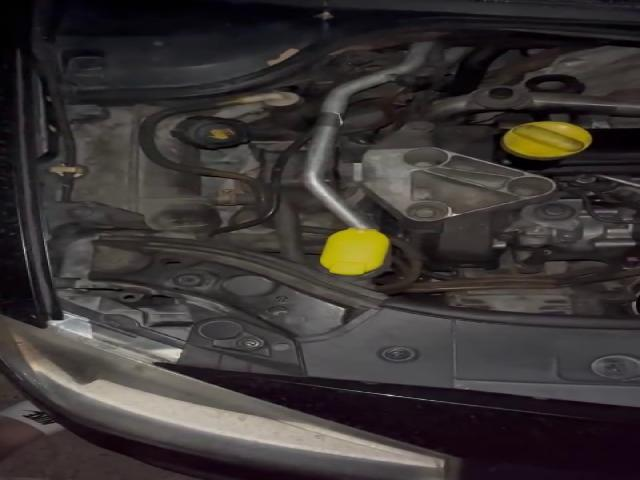antifreeze_tank: (73, 105, 225, 234), (155, 111, 252, 165)
